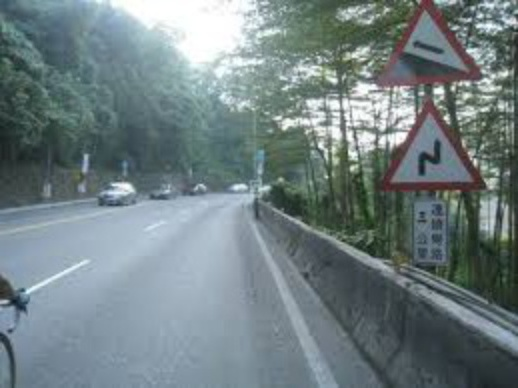Double_bend_right: (375, 100, 489, 191)
